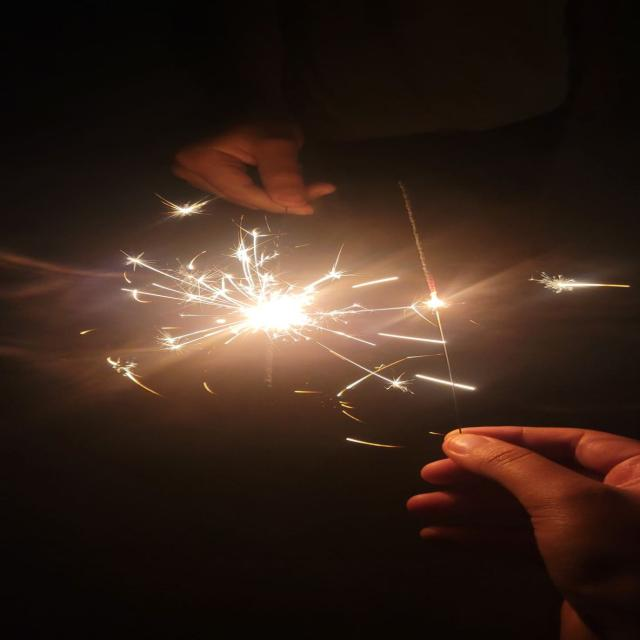fire: (242, 291, 310, 333)
